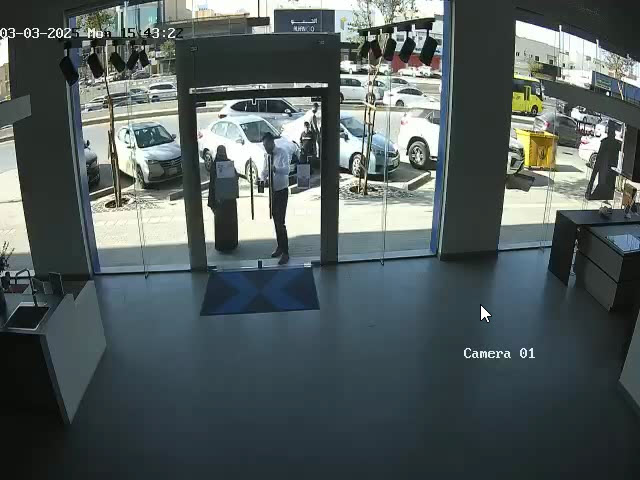employee: (258, 132, 291, 265)
female: (203, 140, 245, 261)
male: (300, 121, 315, 162)
